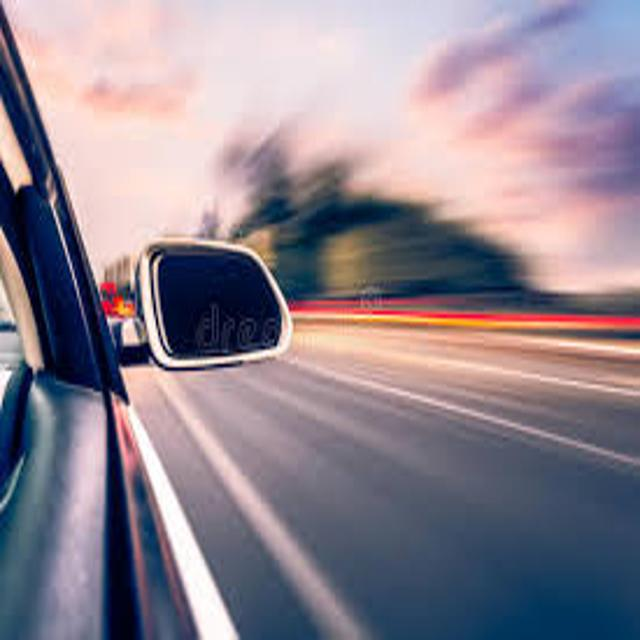car: (1, 1, 293, 640)
